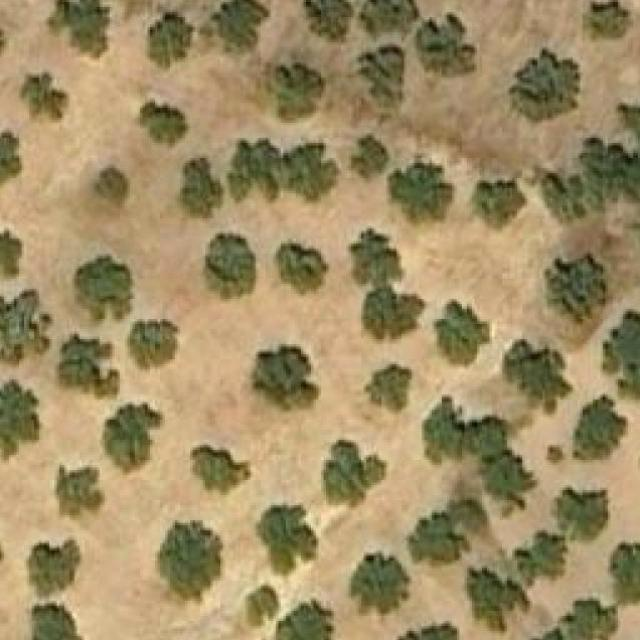Tree: (425, 398, 538, 508), (407, 498, 487, 569), (502, 336, 571, 415), (510, 47, 581, 123), (160, 520, 223, 601), (346, 550, 412, 624), (100, 402, 165, 476), (256, 503, 319, 577), (251, 347, 321, 413), (575, 134, 640, 203), (550, 252, 611, 325), (321, 440, 386, 508), (0, 288, 54, 367), (225, 138, 287, 203), (74, 256, 133, 324), (58, 334, 120, 398), (467, 569, 527, 634), (389, 163, 453, 223), (419, 15, 477, 79), (47, 0, 112, 57), (572, 394, 626, 460), (205, 230, 256, 299), (0, 376, 41, 461), (364, 284, 428, 337), (264, 62, 324, 118), (437, 302, 490, 365), (603, 309, 640, 399), (349, 225, 405, 284), (542, 595, 615, 640), (555, 480, 609, 540), (190, 445, 251, 495), (213, 0, 268, 55), (27, 540, 81, 596), (358, 47, 407, 108), (128, 317, 181, 372), (276, 243, 329, 297), (178, 158, 224, 218), (517, 528, 568, 582), (289, 146, 338, 202), (138, 98, 191, 148), (472, 180, 525, 229), (542, 171, 588, 226), (277, 597, 335, 640), (148, 12, 193, 67), (57, 465, 103, 515), (21, 75, 70, 121), (359, 0, 412, 42), (302, 0, 351, 45), (366, 367, 412, 413), (29, 603, 85, 640), (582, 0, 633, 40), (610, 542, 640, 606), (90, 166, 128, 209), (352, 136, 389, 179), (244, 584, 278, 624), (0, 130, 21, 187), (0, 228, 21, 279), (618, 105, 640, 143), (546, 445, 568, 465)
